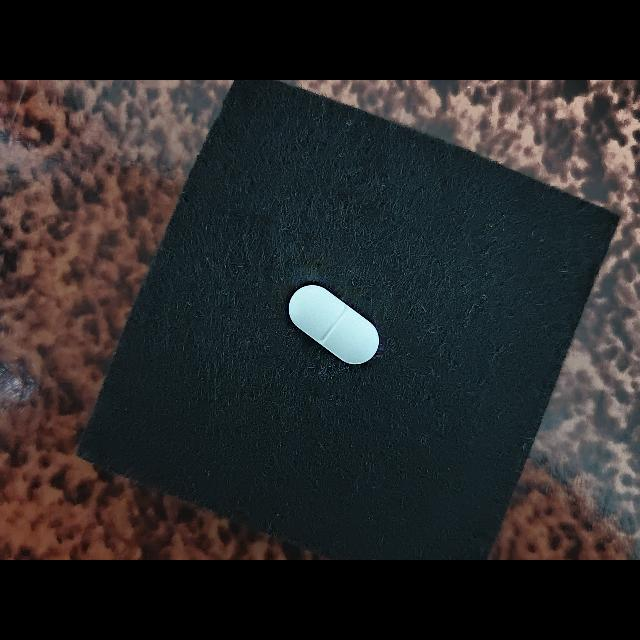Intact Pill: (288, 285, 379, 365)
